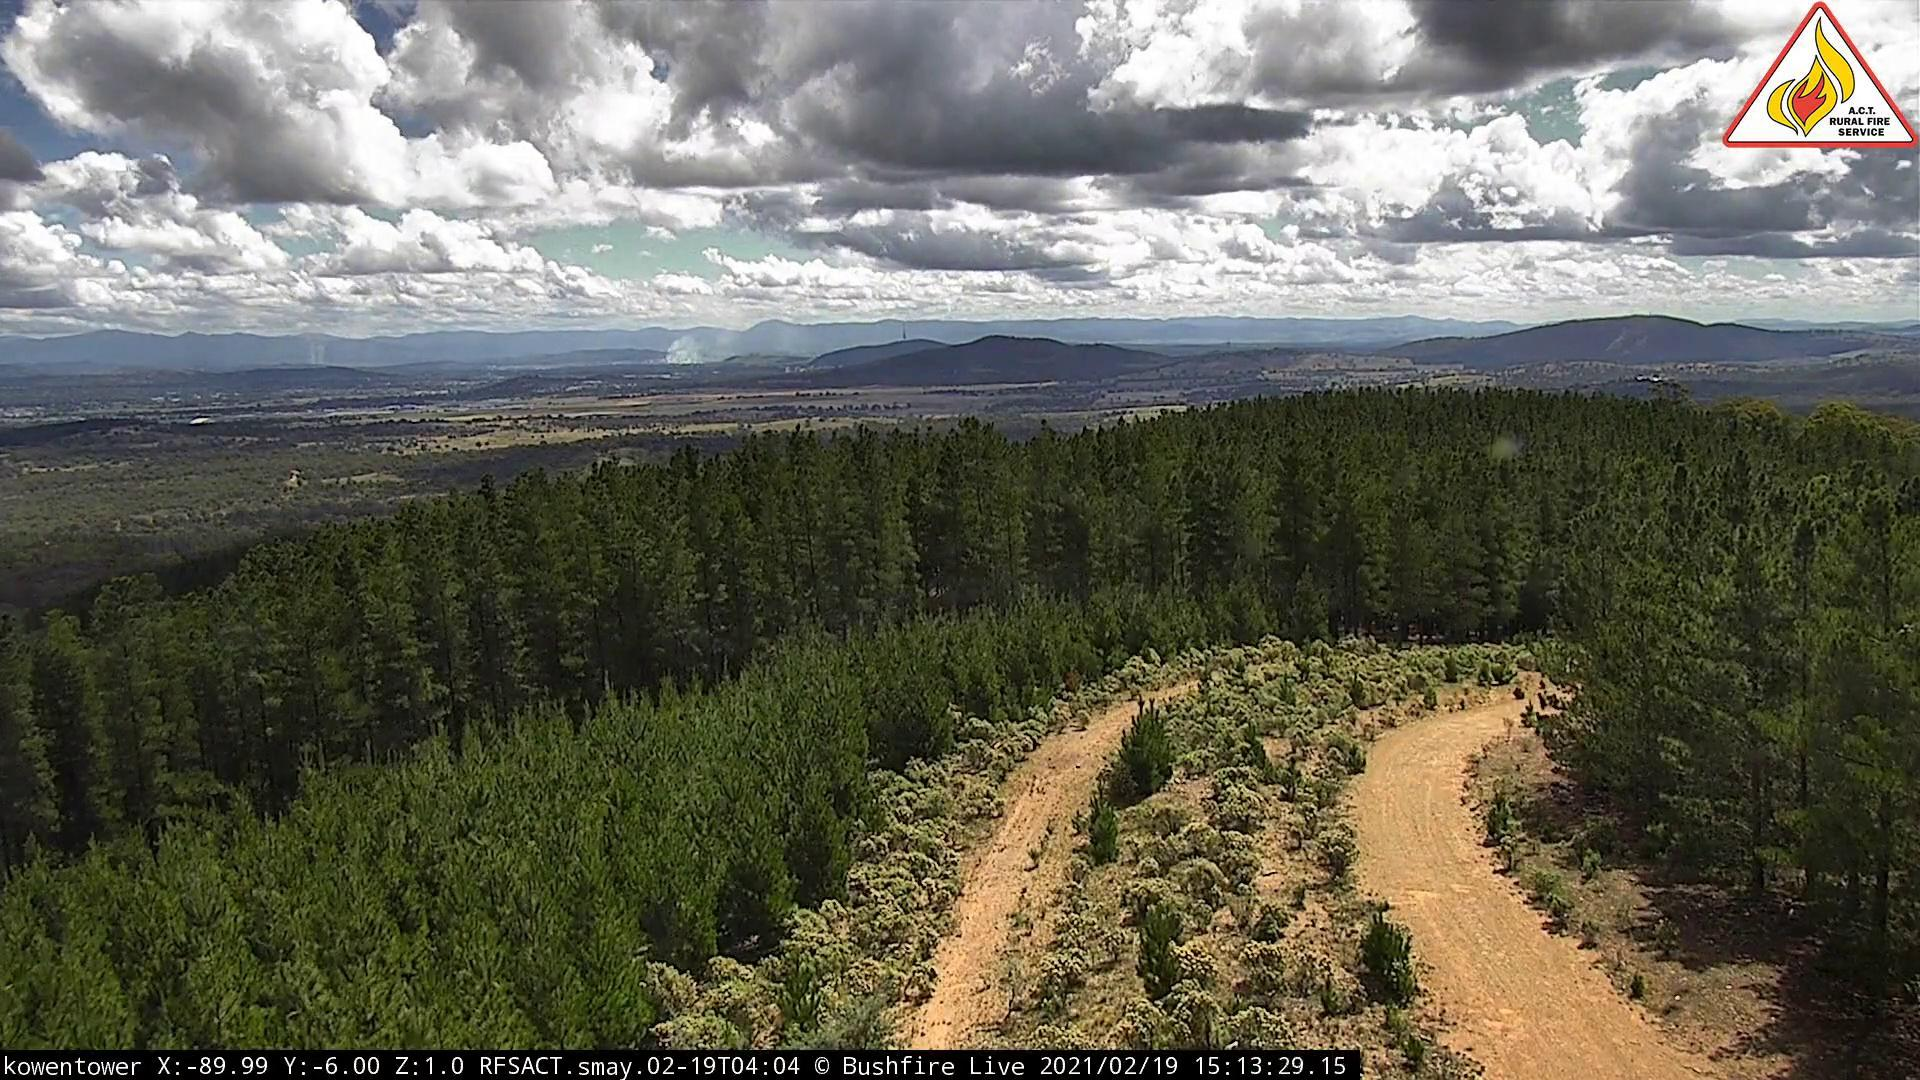Smoke: (659, 305, 753, 372), (291, 306, 373, 380)
